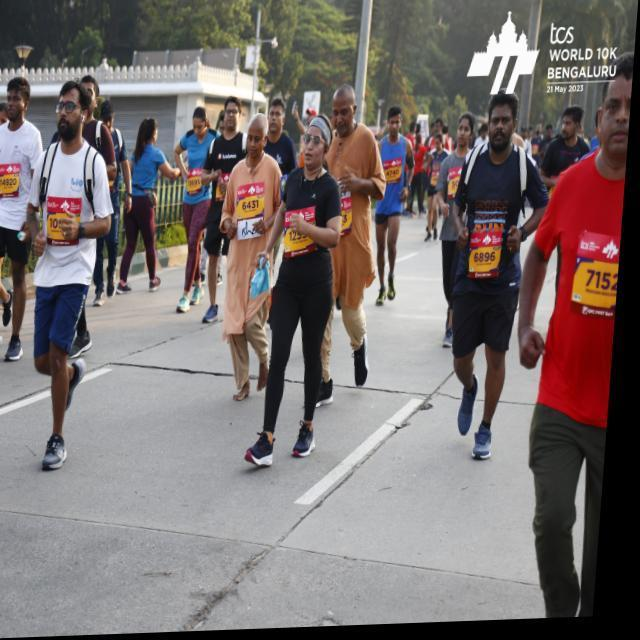dorsal: (575, 230, 626, 326), (472, 228, 510, 282)
